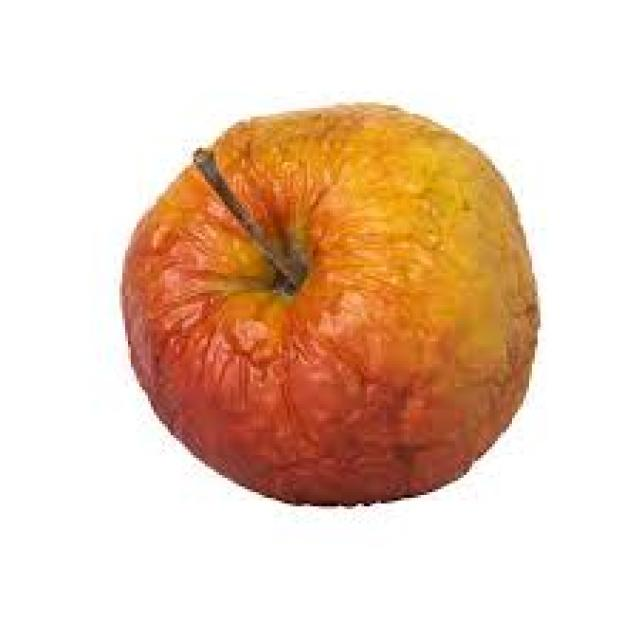overripe: (110, 94, 544, 508)
